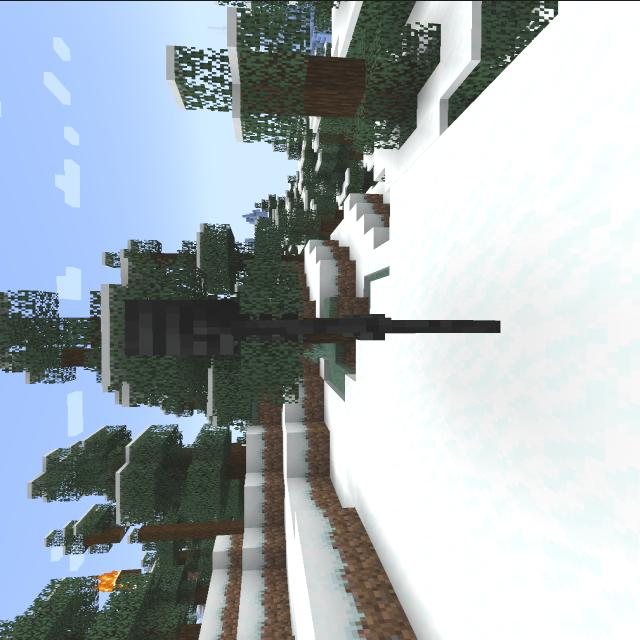Wither Skeleton: (107, 281, 516, 367)
